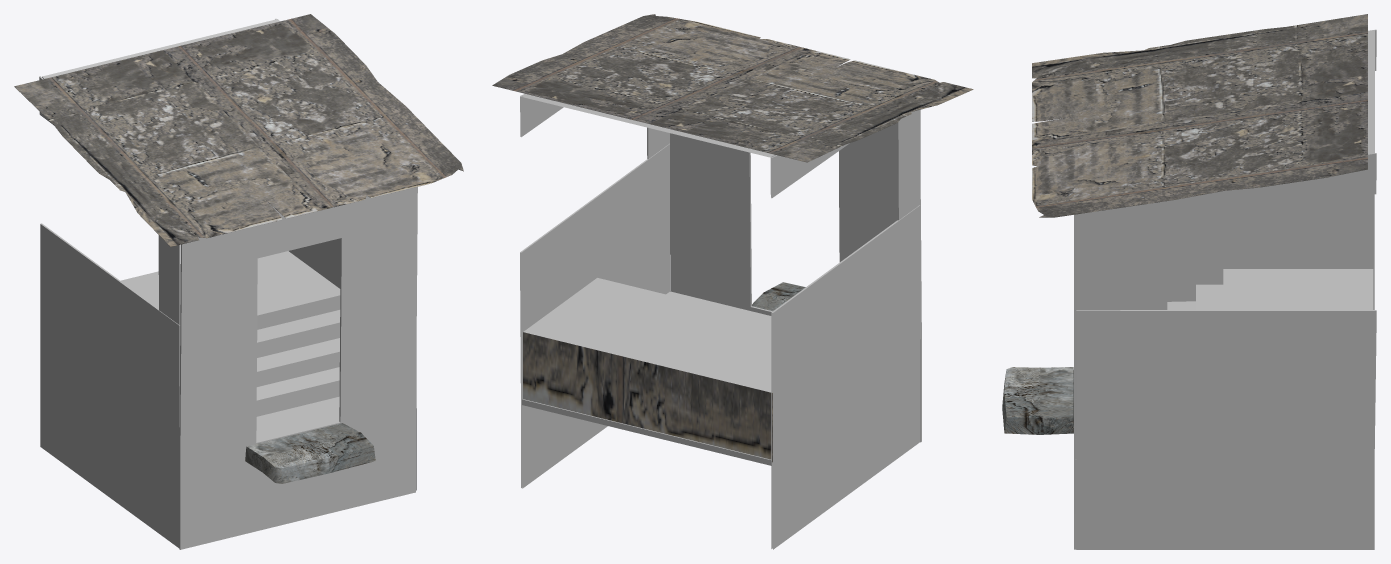
Rendered from Porch_01.FBX.
3 renders of one model, left to right at view 1: azimuth 30°, elevation 25°; view 2: azimuth 150°, elevation 25°; view 3: azimuth 270°, elevation 25°, orthographic. The views are drawn at different scales.
Visible parts, largest first — view 1: Porch_01, Porch_01_2; view 2: Porch_01, Porch_01_2; view 3: Porch_01, Porch_01_2.
Part boxes in pixels (left/top/right/bottom): Porch_01: left=14, top=14, right=463, bottom=549; Porch_01_2: left=245, top=423, right=375, bottom=483; Porch_01: left=492, top=14, right=973, bottom=549; Porch_01_2: left=752, top=282, right=805, bottom=311; Porch_01: left=1032, top=14, right=1376, bottom=549; Porch_01_2: left=1002, top=367, right=1073, bottom=434.
Size of the model in its own units: 375 by 377 by 441.
